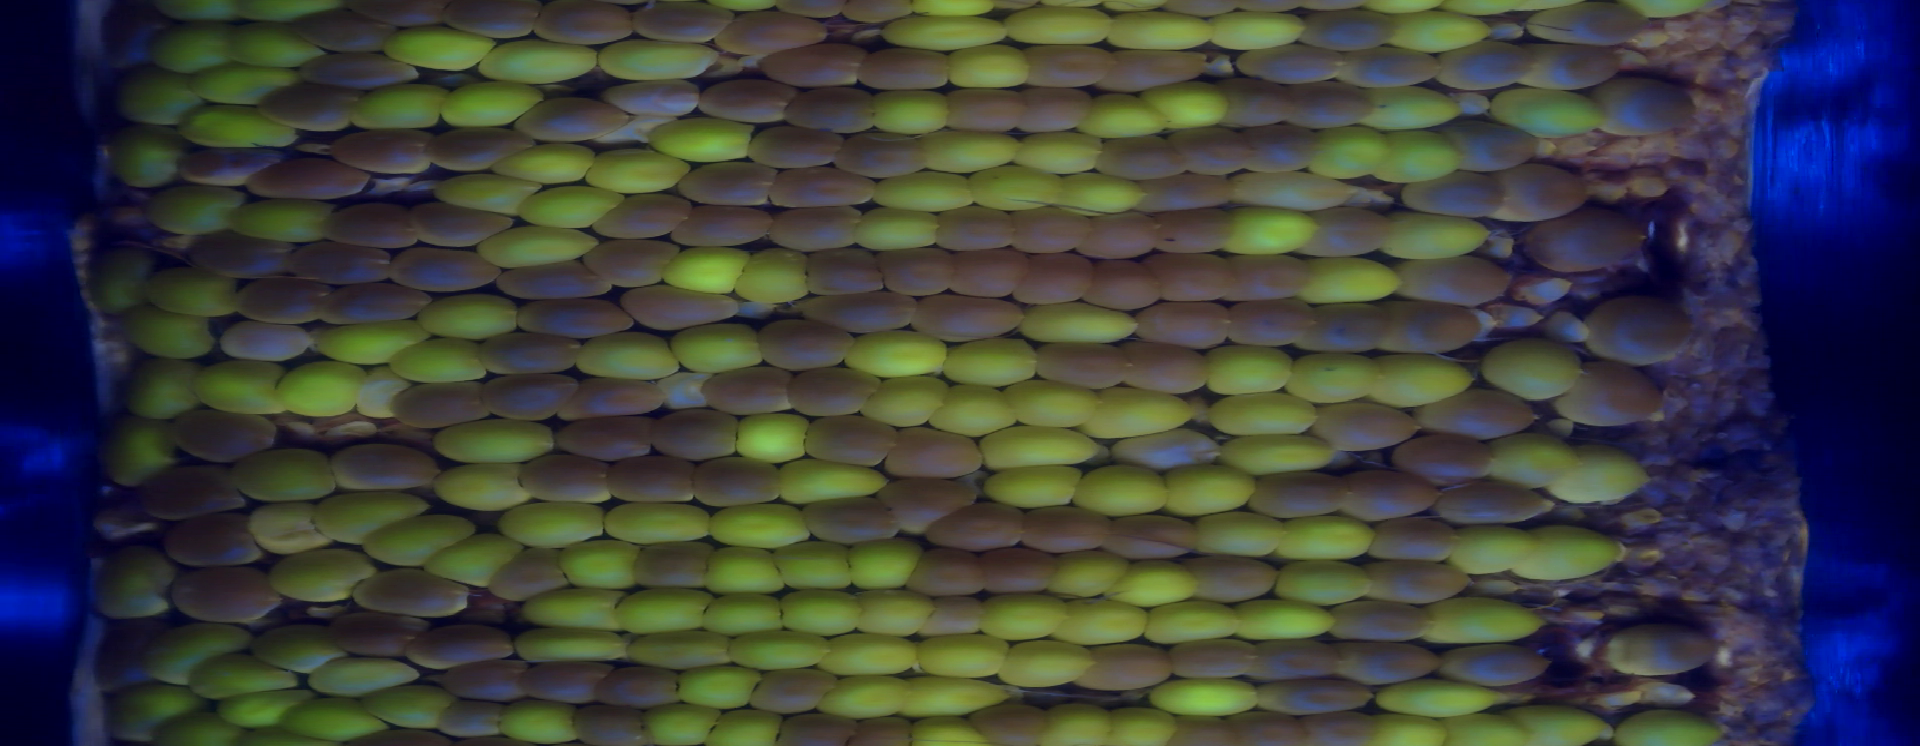fluorescent: (138, 614, 267, 693), (91, 405, 191, 497), (1482, 330, 1593, 409), (1275, 343, 1396, 415), (1360, 347, 1487, 415), (82, 544, 187, 626), (425, 412, 567, 472), (307, 486, 443, 549), (222, 440, 345, 508), (1414, 589, 1551, 650), (591, 32, 730, 91), (355, 510, 482, 573), (1489, 78, 1611, 145), (469, 33, 612, 89), (1547, 437, 1657, 510), (96, 679, 213, 746), (111, 300, 229, 367), (1076, 382, 1201, 445), (1507, 523, 1629, 587), (173, 99, 309, 156), (380, 17, 504, 78), (1153, 458, 1269, 524), (1370, 673, 1515, 725), (1069, 454, 1178, 524), (1288, 247, 1409, 310), (422, 459, 545, 521), (140, 176, 257, 240), (976, 420, 1108, 477), (268, 355, 375, 425), (838, 323, 961, 383), (189, 356, 296, 425), (1213, 426, 1344, 483), (260, 548, 382, 608), (408, 285, 529, 345), (430, 75, 553, 134), (1018, 296, 1149, 352), (99, 119, 192, 196), (937, 330, 1047, 394), (309, 314, 441, 367), (768, 454, 900, 508), (669, 314, 778, 379), (178, 649, 309, 703), (571, 327, 686, 388), (475, 220, 609, 273), (108, 59, 212, 126), (1206, 386, 1325, 445), (596, 496, 720, 552), (1484, 429, 1589, 495), (997, 372, 1106, 436), (247, 617, 354, 682), (645, 111, 763, 170), (1356, 80, 1473, 138), (1379, 206, 1496, 265), (1216, 200, 1329, 261), (580, 145, 697, 203), (422, 526, 528, 590), (513, 180, 634, 236), (970, 587, 1081, 648), (841, 530, 937, 601), (119, 352, 209, 426), (218, 191, 338, 247), (962, 158, 1075, 218), (1367, 122, 1471, 187), (1195, 338, 1300, 402), (991, 635, 1104, 693), (1300, 118, 1400, 185), (302, 653, 432, 704), (179, 58, 309, 109), (1141, 674, 1273, 724), (343, 77, 456, 136), (725, 240, 819, 310), (857, 372, 958, 437), (889, 671, 1019, 722), (143, 15, 247, 77), (702, 499, 819, 554), (420, 168, 549, 218), (998, 1, 1123, 53), (1229, 594, 1343, 650), (812, 627, 928, 682), (912, 124, 1029, 179), (1273, 555, 1380, 615), (491, 497, 612, 550), (1107, 5, 1228, 58), (1201, 5, 1322, 58), (220, 13, 331, 71), (1046, 167, 1156, 224), (81, 243, 159, 323), (977, 461, 1089, 517), (1048, 594, 1160, 650), (1185, 503, 1292, 562), (507, 622, 634, 671), (1041, 543, 1139, 606), (1272, 510, 1382, 566), (1100, 556, 1207, 614), (277, 695, 397, 746), (720, 627, 840, 679), (658, 240, 754, 304), (609, 583, 720, 638), (140, 263, 246, 321), (913, 628, 1020, 686), (623, 624, 740, 676), (513, 583, 629, 636), (1071, 86, 1176, 145), (1138, 597, 1250, 650), (355, 677, 460, 735), (921, 382, 1024, 441), (1136, 76, 1237, 136), (1386, 4, 1498, 58), (1442, 519, 1547, 577), (489, 136, 604, 187), (809, 670, 918, 724), (876, 10, 1016, 51), (387, 333, 495, 387), (207, 684, 323, 733), (696, 541, 791, 600), (940, 39, 1040, 96), (767, 537, 860, 597), (1604, 701, 1727, 746), (847, 198, 950, 252), (849, 583, 947, 639), (552, 537, 648, 594), (242, 499, 334, 557), (1007, 127, 1111, 179), (696, 586, 793, 639), (774, 586, 872, 639), (730, 408, 816, 469), (868, 170, 982, 216), (861, 85, 956, 138), (672, 659, 765, 714), (343, 361, 419, 429), (493, 695, 590, 746), (1506, 701, 1607, 746), (1031, 698, 1120, 746), (640, 698, 729, 746), (142, 707, 249, 746), (698, 704, 790, 746), (1097, 702, 1180, 746), (1431, 710, 1534, 746), (1359, 709, 1453, 746), (906, 1, 998, 23)
nonfluorescent: (1524, 198, 1652, 279), (1553, 356, 1671, 439), (1582, 292, 1700, 372), (164, 560, 291, 627), (613, 277, 746, 341), (872, 470, 989, 541), (1429, 473, 1562, 535), (1586, 73, 1704, 143), (1607, 612, 1723, 684), (1391, 250, 1517, 314), (1409, 385, 1545, 443), (1433, 115, 1550, 183), (291, 45, 433, 100), (131, 463, 256, 526), (242, 156, 383, 209), (347, 562, 481, 619), (160, 405, 287, 465), (396, 619, 524, 677), (902, 289, 1033, 347), (323, 440, 451, 499), (1369, 295, 1487, 359), (509, 295, 648, 349), (1513, 38, 1633, 99), (711, 2, 836, 61), (400, 197, 525, 256), (160, 505, 269, 572), (879, 421, 992, 485), (1387, 428, 1500, 491), (1400, 167, 1517, 227), (84, 614, 167, 699), (1335, 465, 1445, 529), (288, 5, 409, 62), (181, 227, 302, 284), (471, 327, 593, 385), (1291, 299, 1402, 361), (547, 412, 665, 470), (475, 366, 588, 428), (775, 78, 885, 141), (756, 312, 860, 379), (92, 1, 182, 77), (415, 122, 542, 176), (320, 196, 427, 260), (1310, 397, 1427, 456), (324, 122, 438, 183), (1247, 467, 1360, 527), (1179, 550, 1291, 611), (798, 285, 927, 338), (1327, 635, 1447, 691), (1140, 247, 1253, 307), (800, 409, 904, 474), (1487, 163, 1594, 225), (665, 200, 784, 256), (282, 236, 400, 293), (1097, 507, 1209, 567), (489, 256, 618, 307), (315, 276, 438, 330), (384, 243, 511, 295), (587, 189, 702, 246), (513, 89, 631, 146), (1116, 337, 1217, 402), (1526, 1, 1657, 51), (920, 499, 1033, 556), (1096, 40, 1212, 97), (1322, 595, 1439, 652), (1303, 201, 1406, 265), (1360, 555, 1479, 610), (598, 451, 707, 511), (753, 36, 866, 93), (383, 379, 501, 434), (675, 156, 782, 216), (1222, 294, 1330, 354), (549, 372, 671, 425), (480, 540, 576, 608), (760, 200, 869, 258), (1014, 38, 1123, 97), (1011, 500, 1118, 560), (696, 361, 800, 423), (643, 403, 747, 464), (686, 453, 790, 514), (171, 141, 295, 192), (1030, 336, 1138, 394), (1216, 246, 1319, 307), (798, 492, 907, 550), (763, 160, 882, 213), (323, 606, 433, 663), (228, 273, 336, 331), (1130, 296, 1238, 354), (260, 81, 362, 141), (1109, 423, 1229, 474), (1233, 39, 1356, 89), (1071, 639, 1180, 696), (1433, 38, 1539, 96), (782, 363, 884, 423), (693, 73, 798, 131), (1439, 639, 1554, 692), (1128, 169, 1250, 218), (580, 235, 684, 293), (514, 452, 616, 511), (1258, 673, 1382, 720), (738, 120, 849, 174), (1358, 514, 1466, 570), (1078, 254, 1171, 317), (1007, 78, 1104, 138), (1089, 129, 1193, 185), (942, 244, 1037, 305), (900, 541, 996, 603), (1333, 43, 1450, 93), (1071, 205, 1171, 263), (1293, 5, 1403, 58), (744, 661, 841, 720), (528, 1, 638, 53), (627, 537, 718, 599), (976, 538, 1067, 600), (936, 82, 1036, 138), (436, 653, 538, 708), (1007, 247, 1100, 307), (599, 73, 707, 125), (793, 244, 896, 298), (1243, 636, 1351, 687), (1283, 78, 1381, 135), (1002, 198, 1093, 258), (853, 40, 958, 93), (626, 1, 742, 48), (1213, 73, 1302, 135), (1145, 205, 1244, 258), (1167, 122, 1259, 180), (927, 201, 1022, 256), (517, 657, 613, 710), (1164, 635, 1266, 684), (874, 243, 962, 299), (437, 1, 549, 45), (589, 661, 688, 710), (1236, 122, 1324, 176), (962, 698, 1058, 746), (913, 589, 994, 642), (568, 699, 659, 746), (431, 695, 511, 741), (343, 1, 460, 32), (770, 708, 861, 746), (839, 713, 920, 746)
